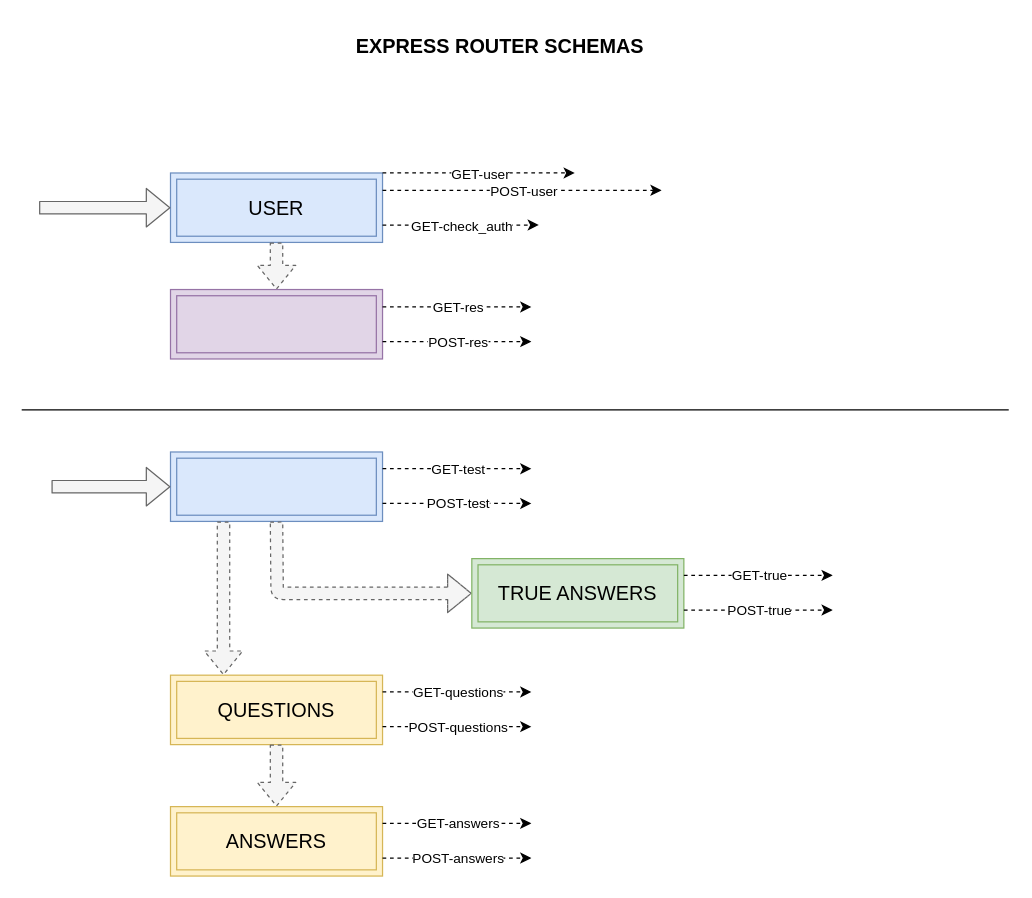
This 1032x898 diagram has some shape labels left out. The shapes that lost their labels are listed below. From the top down, each one's centre as x and y in pixels, then its label:
At point 276,323: "RESULT".
At point 276,486: "TEST".
